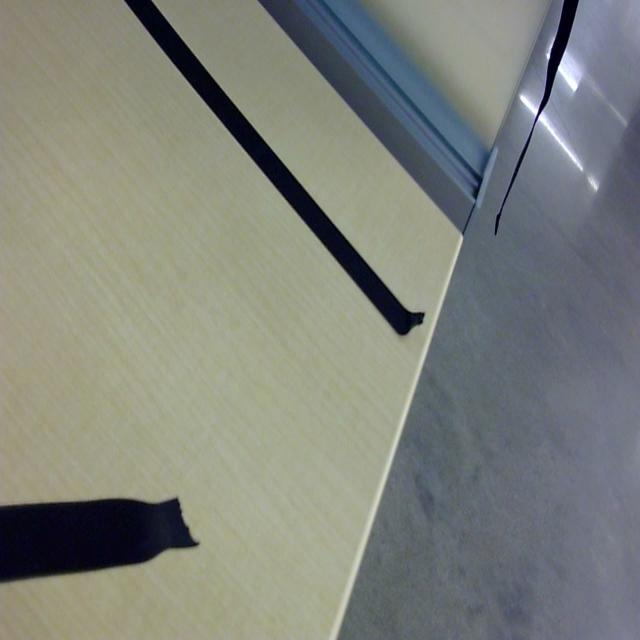tape: (121, 0, 431, 350), (0, 499, 198, 587)
